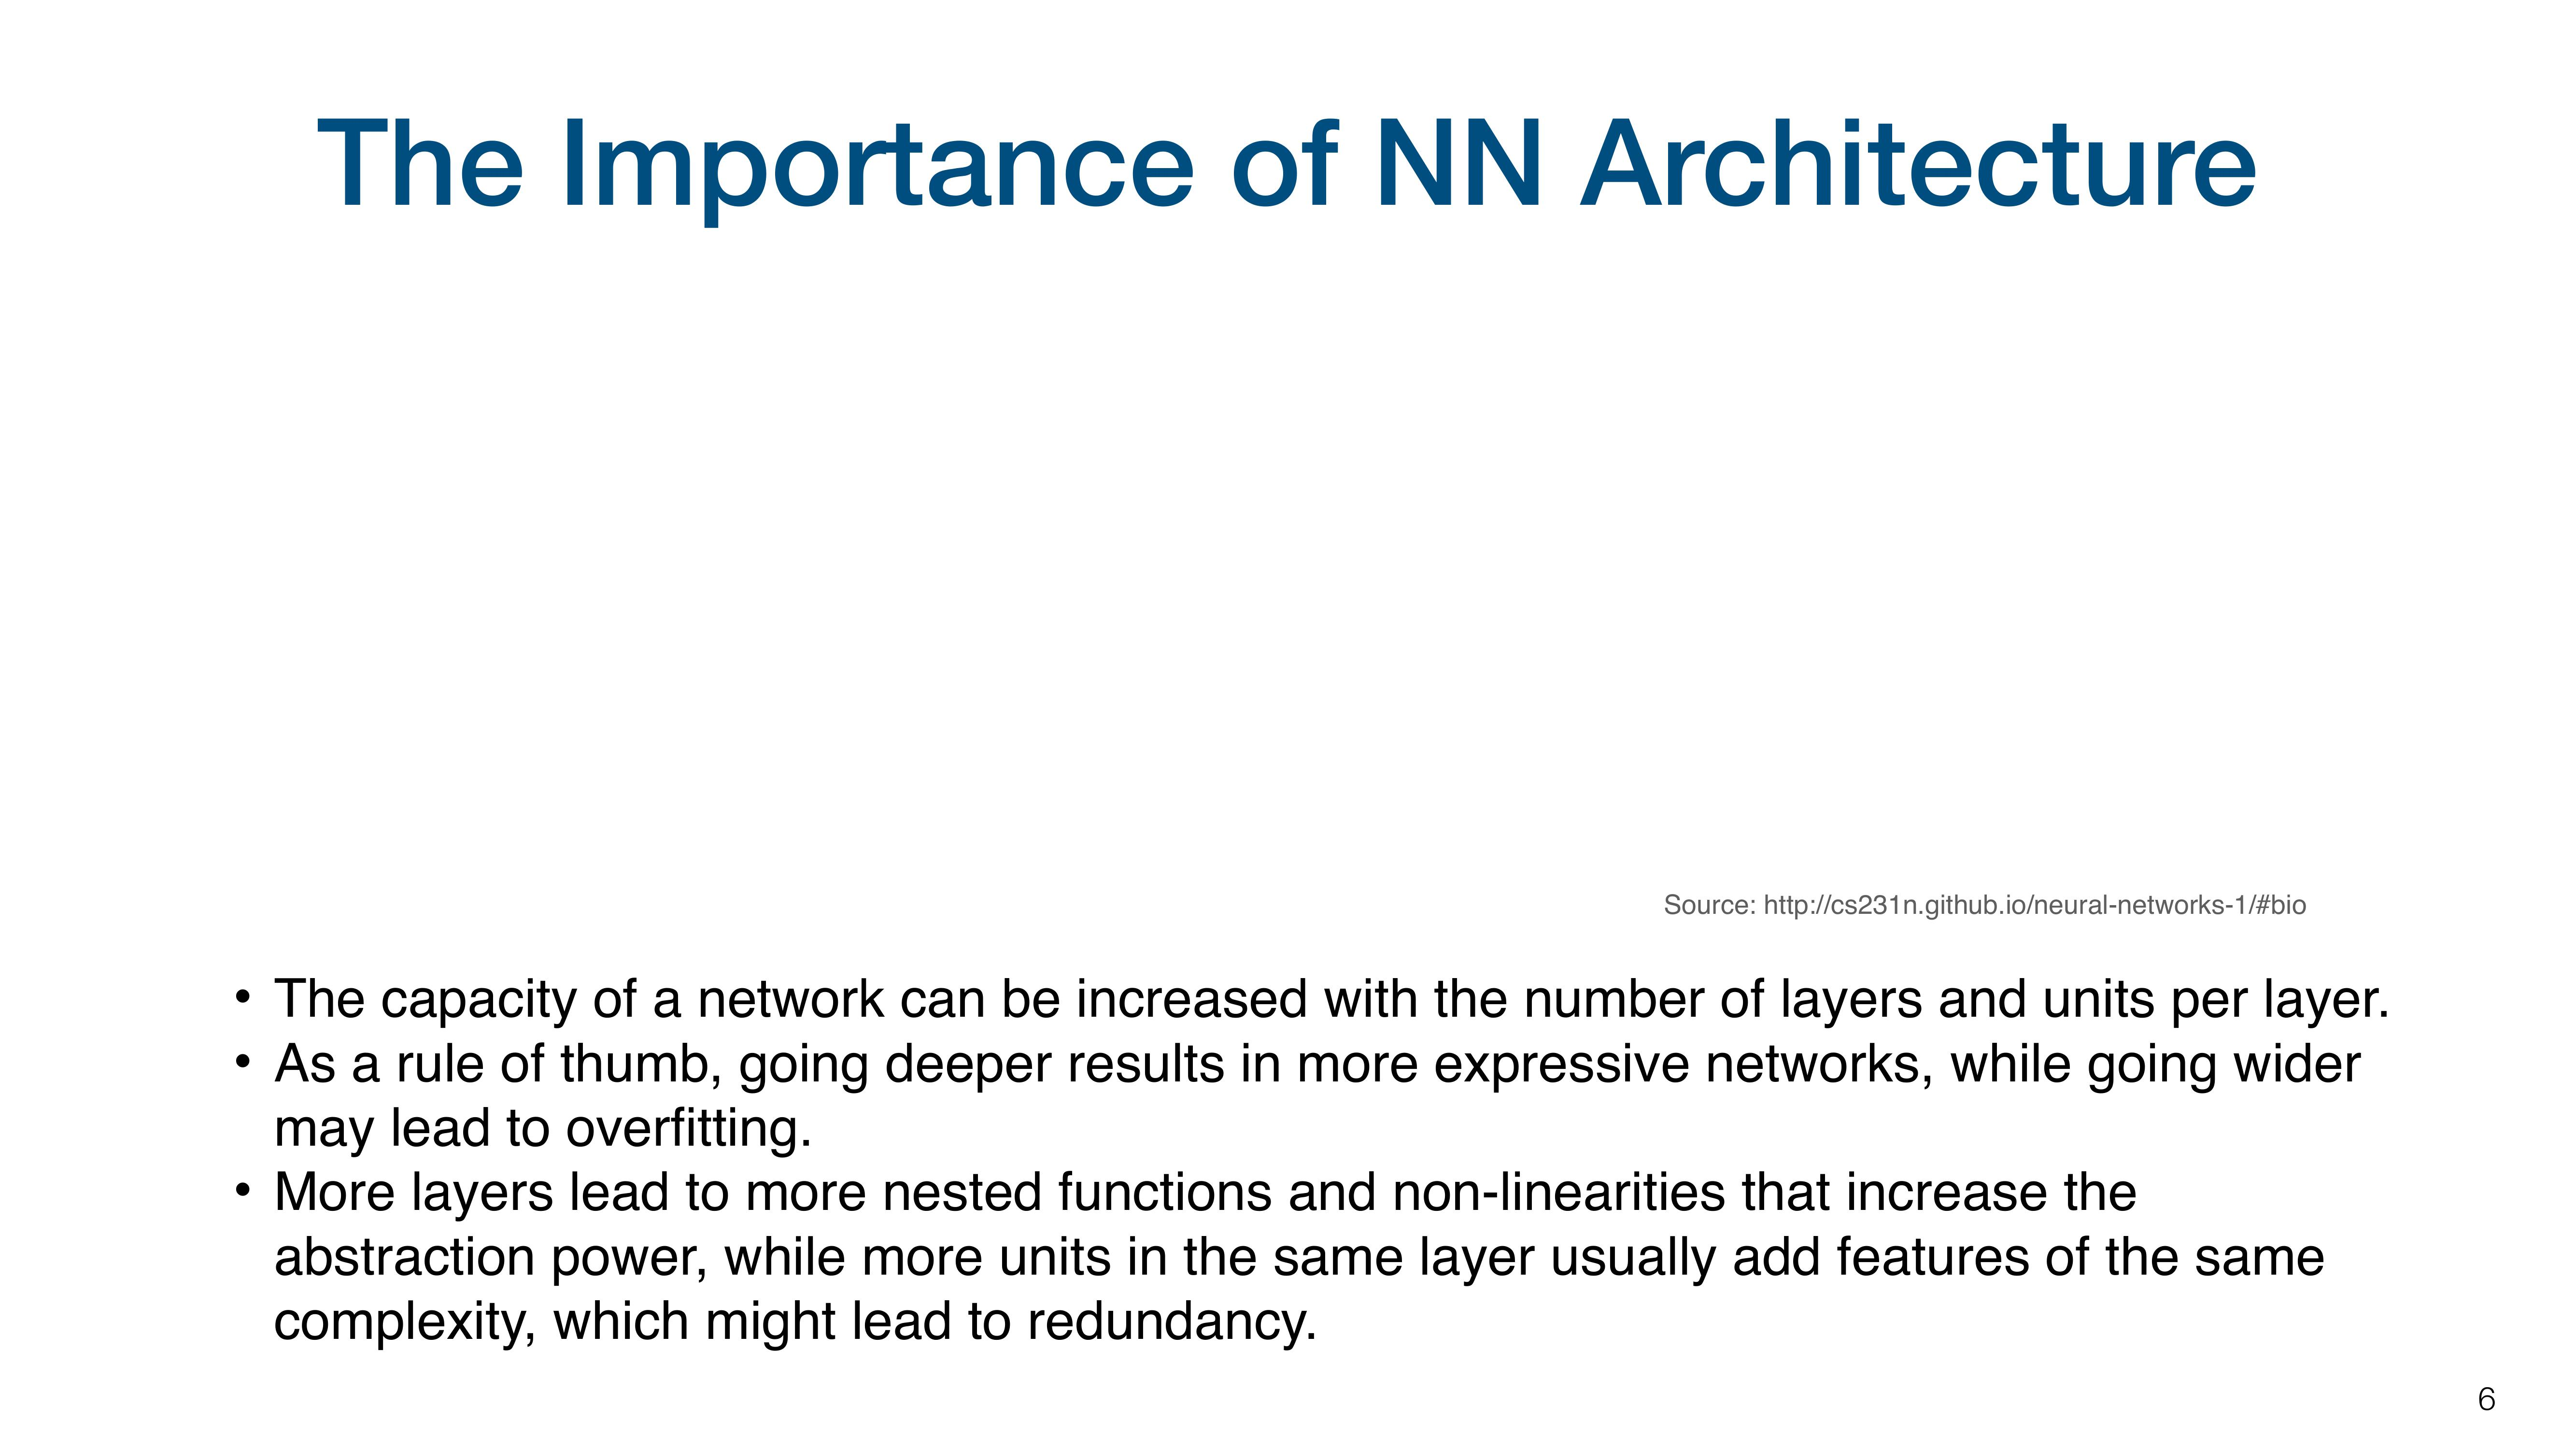Title: (308, 103, 2265, 242)
